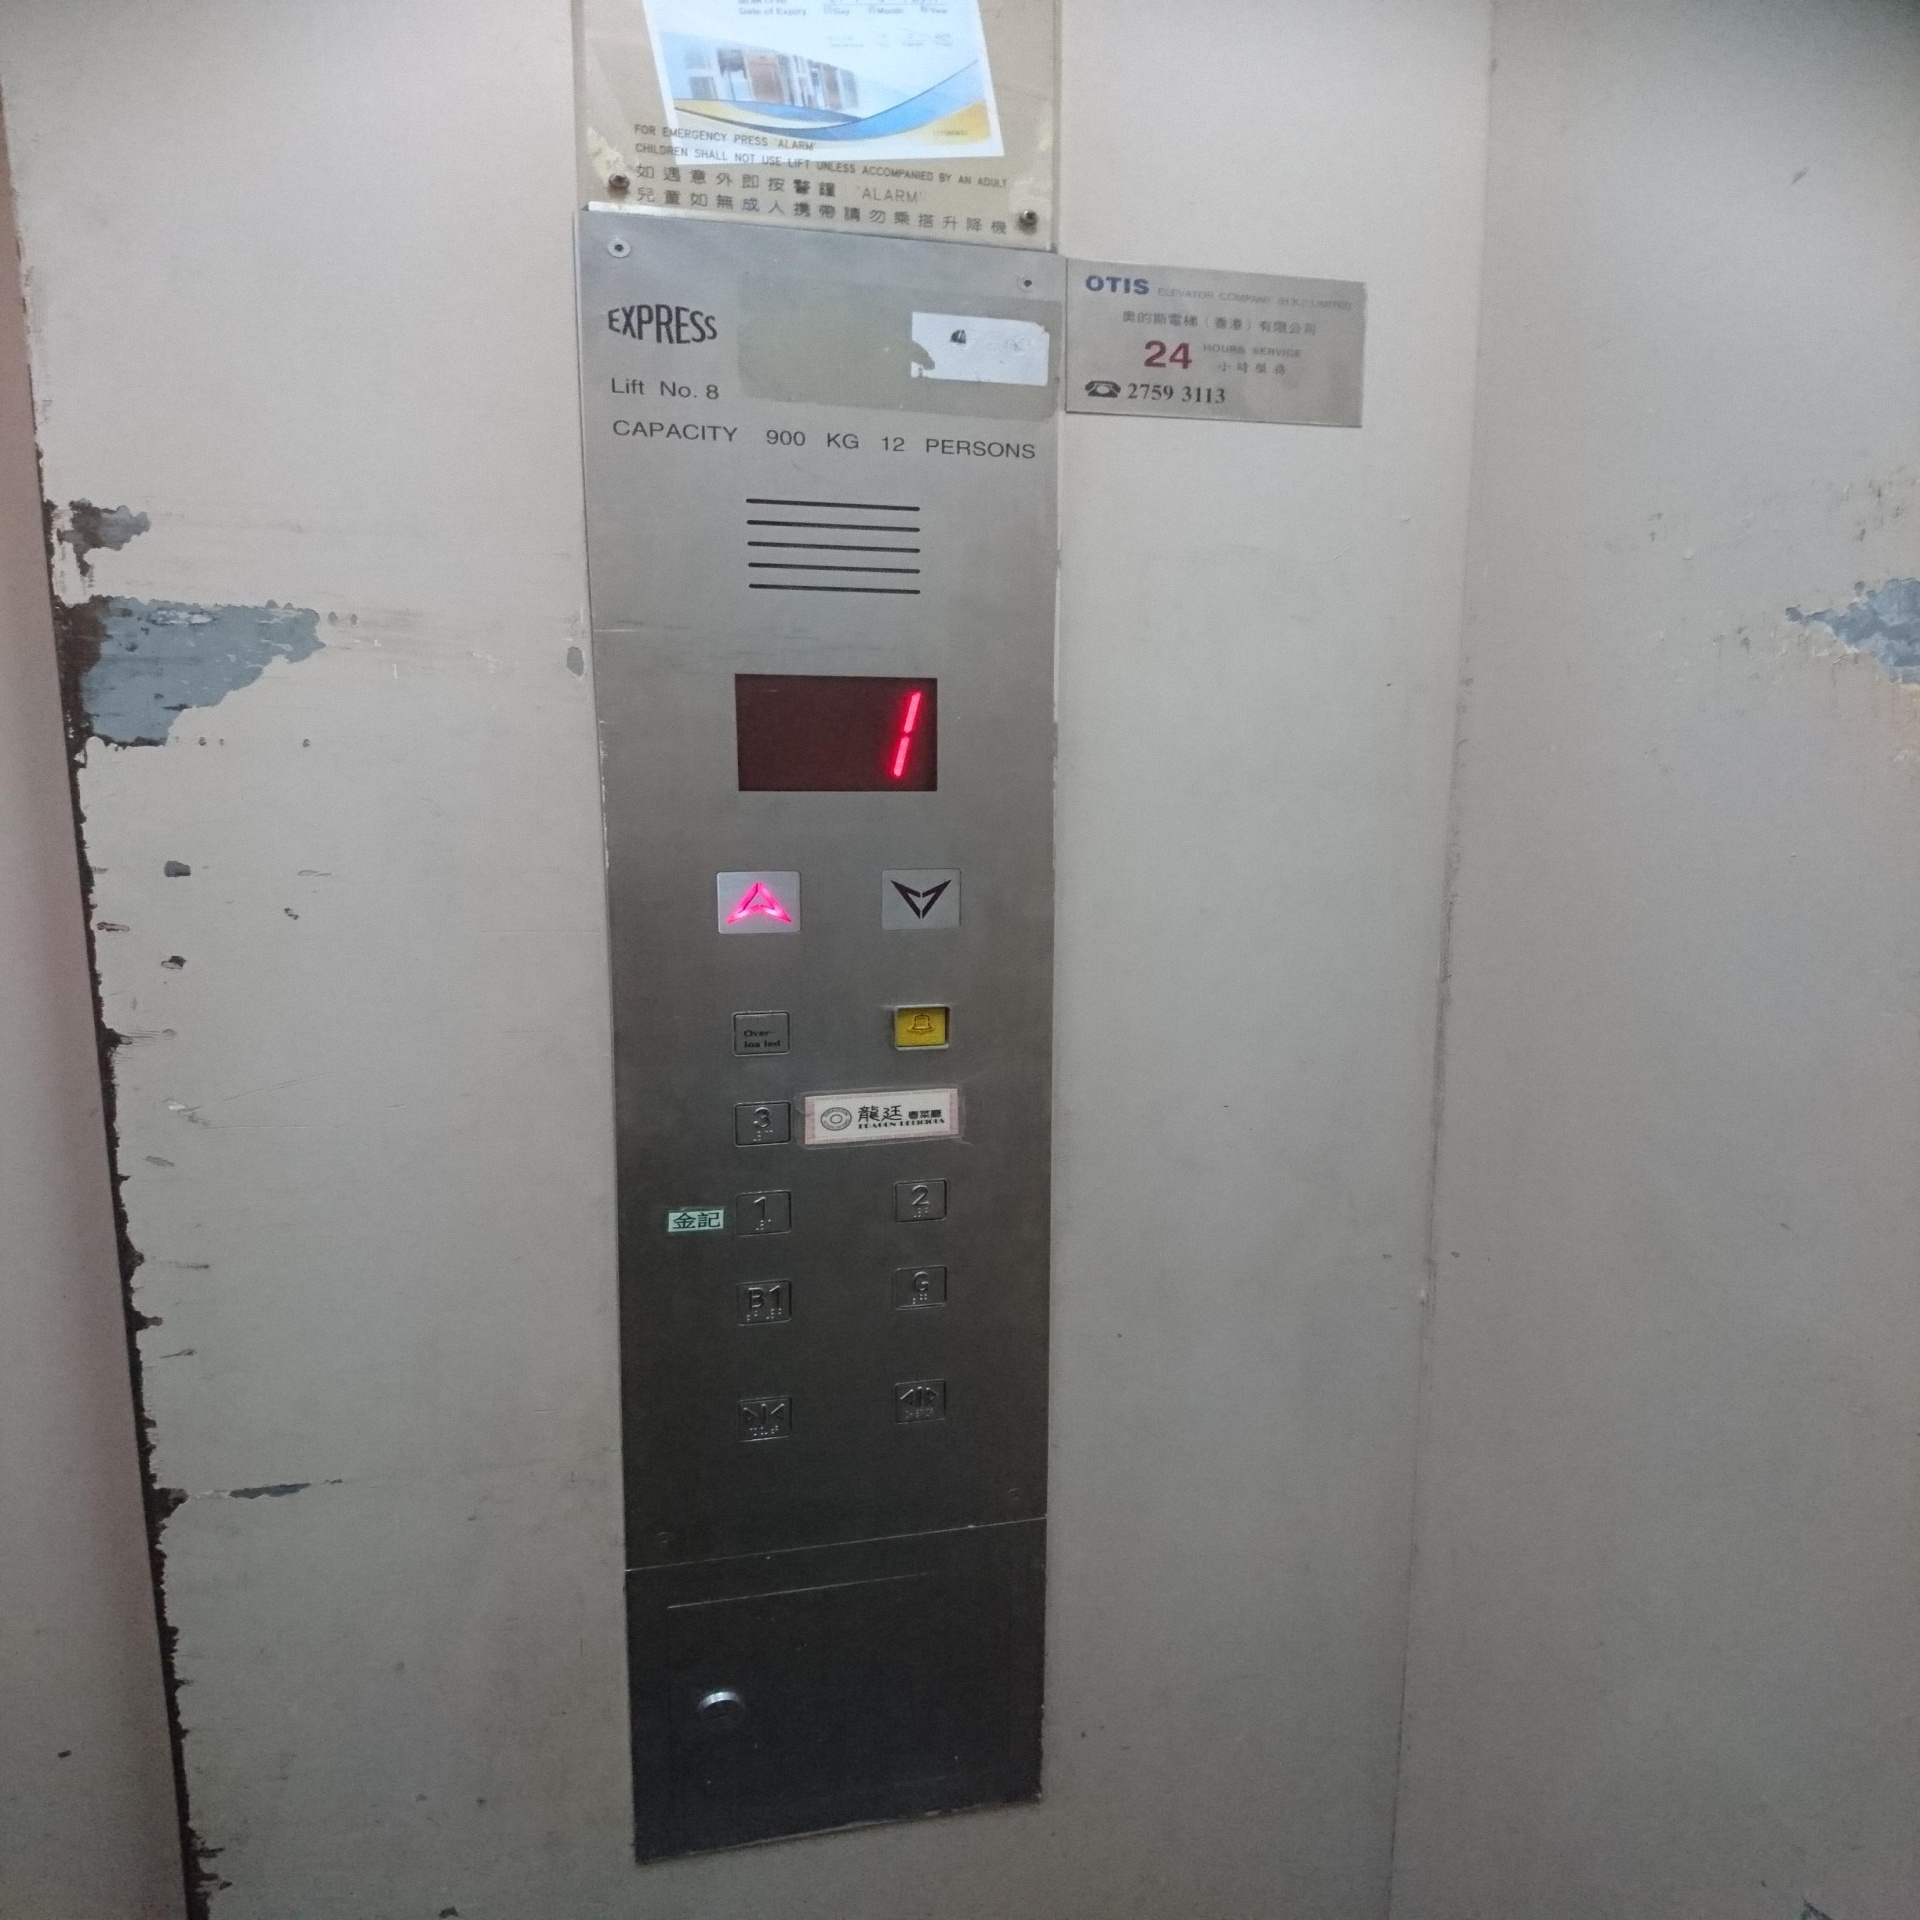1: (731, 1187, 795, 1238)
2: (891, 1176, 949, 1225)
3: (730, 1099, 795, 1150)
B1: (731, 1275, 795, 1327)
G: (891, 1261, 949, 1313)
alarm: (886, 1002, 955, 1051)
close: (731, 1393, 796, 1445)
down: (877, 863, 965, 935)
led: (728, 670, 942, 796)
open: (891, 1375, 949, 1426)
text: (730, 1009, 793, 1058)
up: (714, 867, 805, 937)
